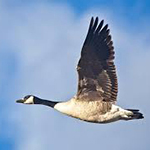geese: (12, 91, 33, 112)
